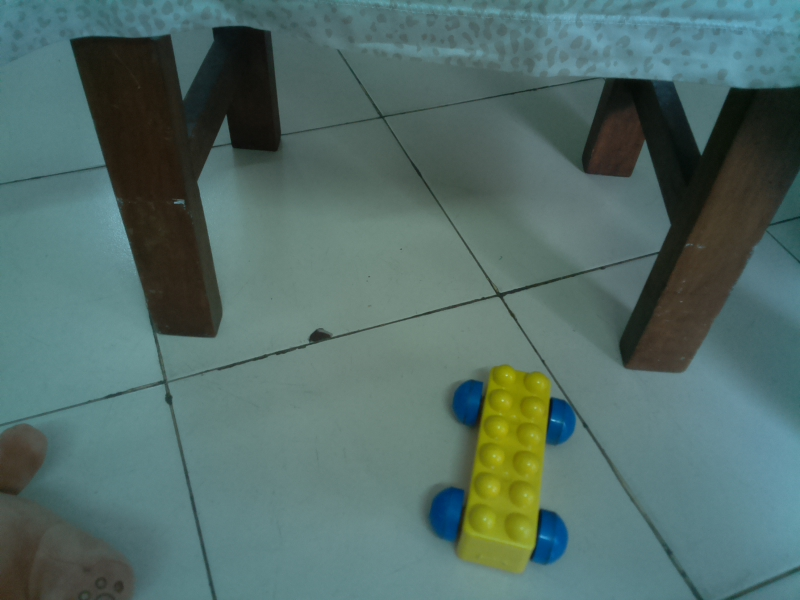toy_Car: (422, 360, 581, 578)
